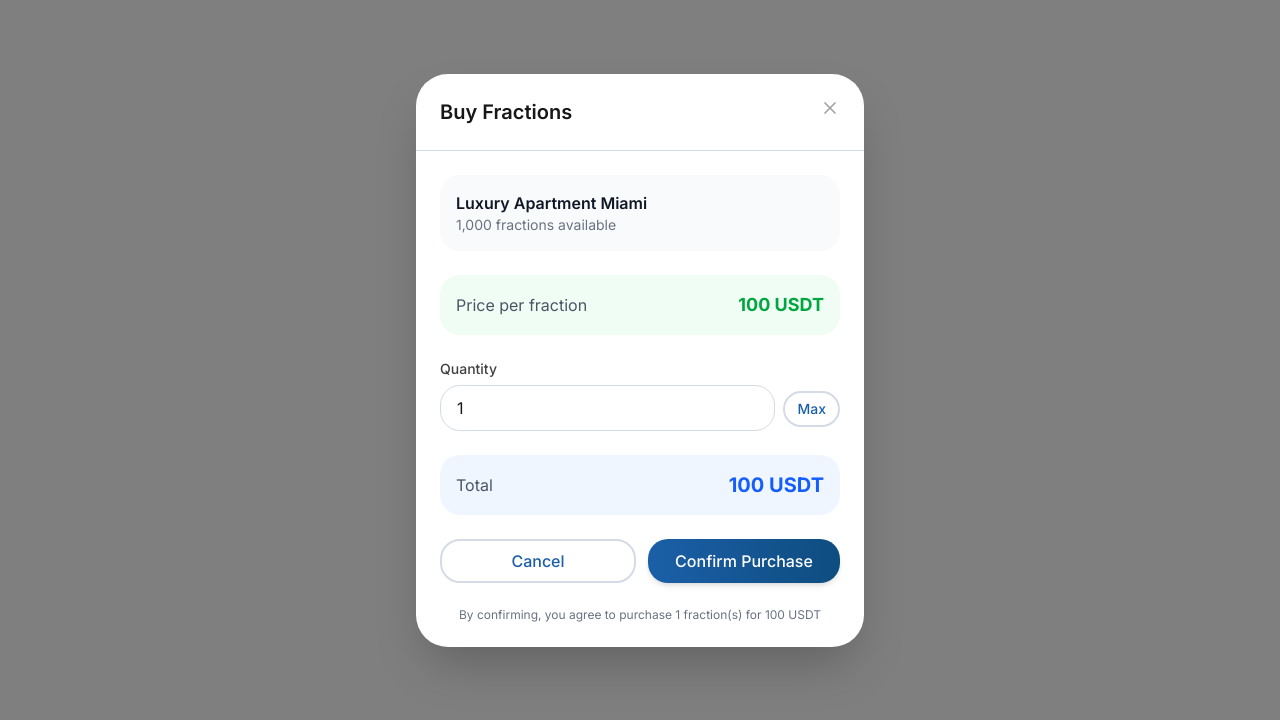
PurchaseModal › should disable confirm button when quantity exceeds available
Replace the text in the field labelled "Quantity" with "2000" at x=608, y=408, box [440, 384, 776, 430]
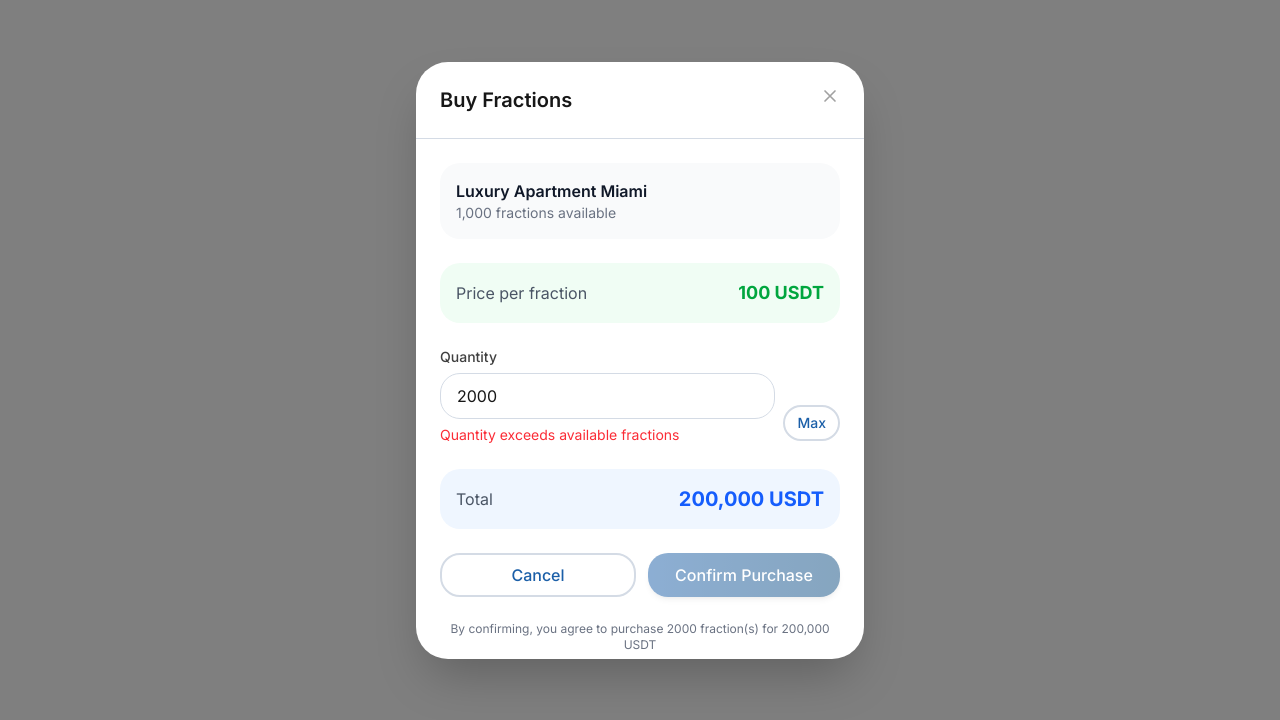
Now the button "Confirm Purchase" is disabled, box [648, 552, 840, 596]
